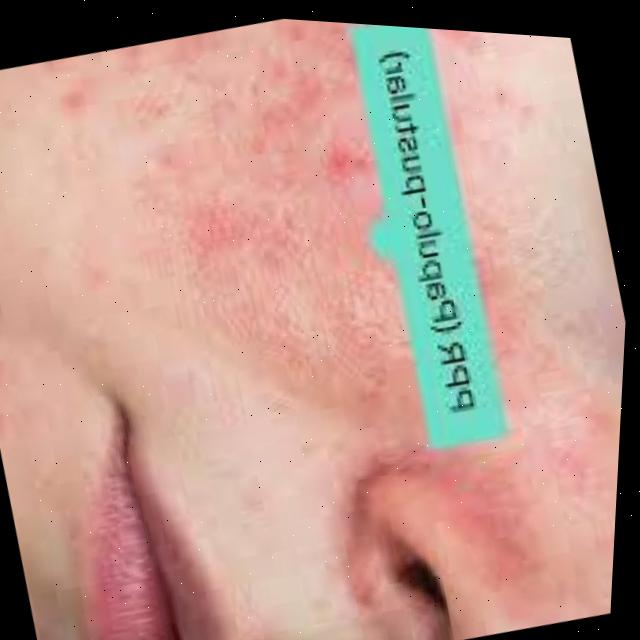Rosacea: (52, 5, 414, 398)
